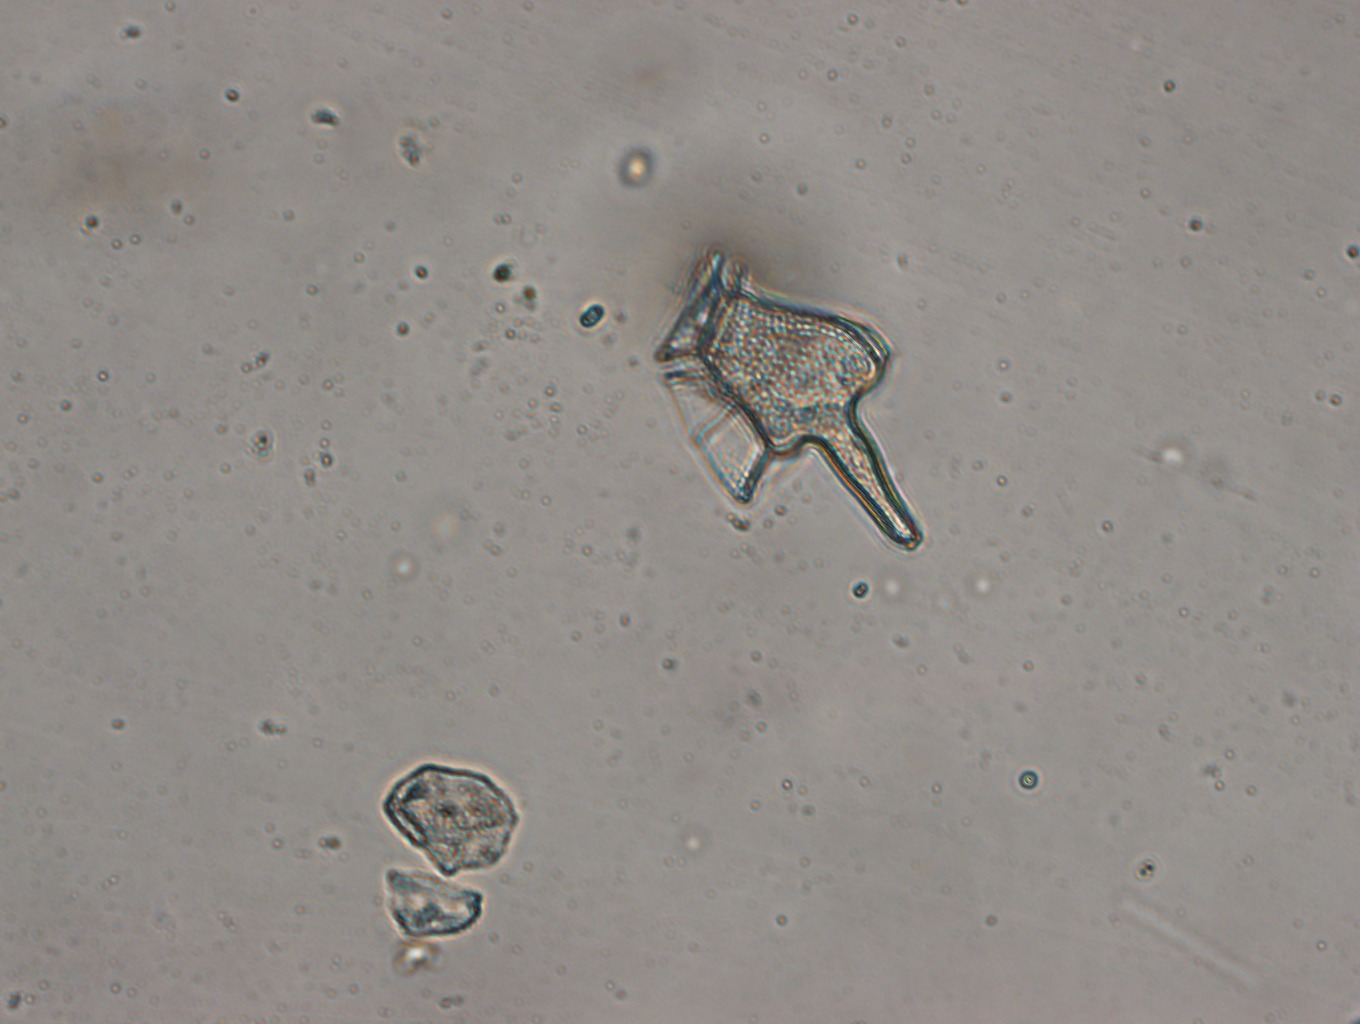dinophysis caudata: (648, 242, 928, 551)
